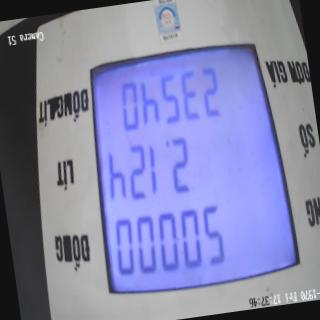screen: (71, 29, 307, 319)
